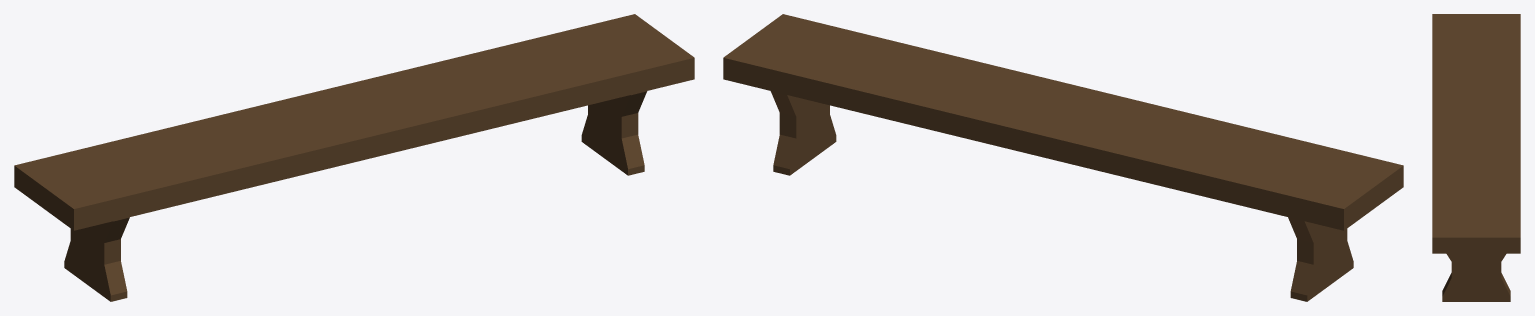
File: Bench_For_Scene.fbx
3 renders of one model, left to right at view 1: azimuth 30°, elevation 25°; view 2: azimuth 150°, elevation 25°; view 3: azimuth 270°, elevation 25°, orthographic. The views are drawn at different scales.
Visible parts, largest first — view 1: Bench_For_Scene; view 2: Bench_For_Scene; view 3: Bench_For_Scene.
Part boxes in pixels (box(x1,y1,x2,y2)): Bench_For_Scene: box(14, 14, 694, 301); Bench_For_Scene: box(723, 14, 1403, 301); Bench_For_Scene: box(1432, 14, 1520, 301).
Bounding box in the file's own units: 300 × 50 × 50.
